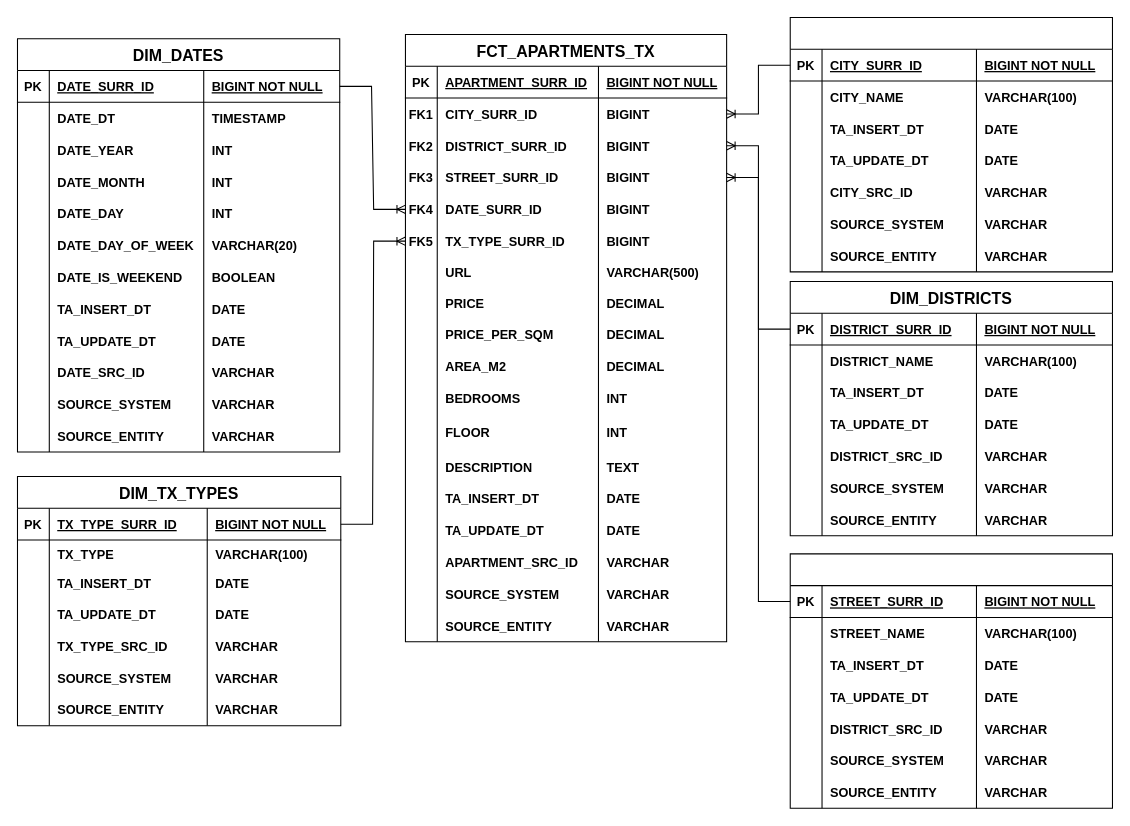
Image size: 1130x826. Some labels were removed from this diagram. Each missing label, with the box of its shape:
DIM_CITIES: (789, 16, 1112, 272)
DIM_STREETS: (789, 553, 1112, 808)
